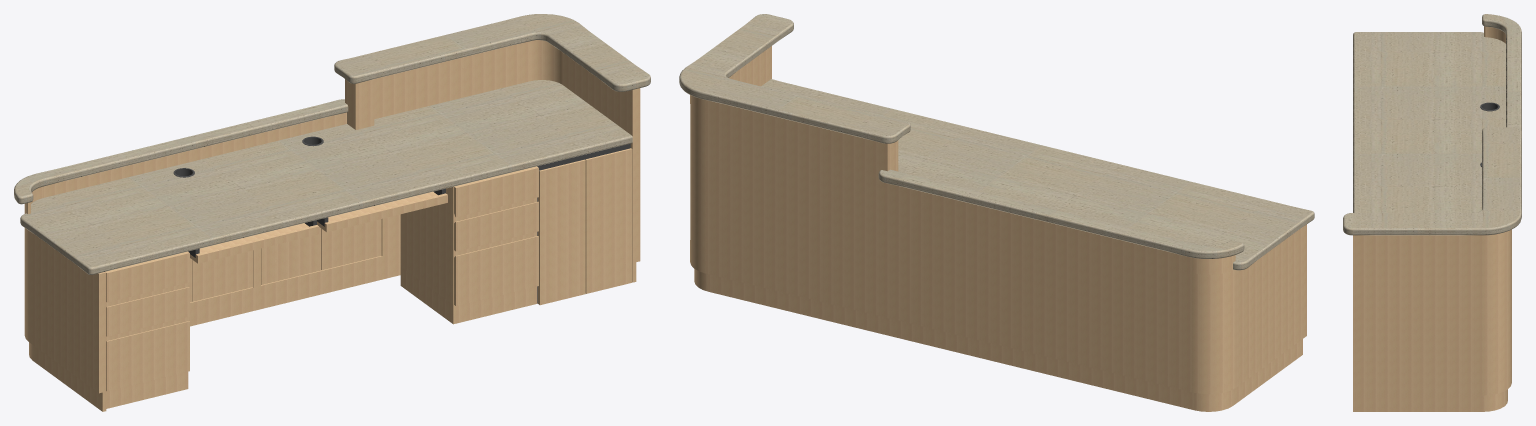
The model's file is SNCTR-09B.FBX.
3 renders of one model, left to right at view 1: azimuth 30°, elevation 25°; view 2: azimuth 150°, elevation 25°; view 3: azimuth 270°, elevation 25°, orthographic. The views are drawn at different scales.
Parts seen in each view (by area): view 1: Casework-Sunray_NCTR-11A_Countertop Casework-Sunray_NCTR-11A, Joined Solid Geometry [4136062], CSW-Sunray_pedestal pedestal_530mm [4136371], CSW_Sunray_Cab-Dbl-Dr_instance_FingerGroove CSW_Sunray_Cab-D, CSW-Sunray_pedestal pedestal_530mm [4136370], CSW_Sunray_Cabinet_Magnetic-Door_Dbl CSW_Sunray_Cabinet_Door (×2), Joined Solid Geometry [4136134], Casework-Sunray_Keyboard Casework-Sunray_Keyboard [4136414], Casework-Sunray_Keyboard Casework-Sunray_Keyboard [4136396]; view 2: Joined Solid Geometry [4136062], Casework-Sunray_NCTR-11A_Countertop Casework-Sunray_NCTR-11A; view 3: Casework-Sunray_NCTR-11A_Countertop Casework-Sunray_NCTR-11A, Joined Solid Geometry [4136062].
Part boxes in pixels (x1,y1,x2,y2): Casework-Sunray_NCTR-11A_Countertop Casework-Sunray_NCTR-11A: (14,14,650,274); Joined Solid Geometry [4136062]: (24,40,640,411); CSW-Sunray_pedestal pedestal_530mm [4136371]: (400,166,538,324); CSW_Sunray_Cab-Dbl-Dr_instance_FingerGroove CSW_Sunray_Cab-D: (537,144,632,305); CSW-Sunray_pedestal pedestal_530mm [4136370]: (106,251,189,408); CSW_Sunray_Cabinet_Magnetic-Door_Dbl CSW_Sunray_Cabinet_Door (×2): (188,219,381,302); Joined Solid Geometry [4136134]: (188,214,400,326); Casework-Sunray_Keyboard Casework-Sunray_Keyboard [4136414]: (317,188,447,232); Casework-Sunray_Keyboard Casework-Sunray_Keyboard [4136396]: (188,220,319,263); Joined Solid Geometry [4136062]: (690,46,1306,411); Casework-Sunray_NCTR-11A_Countertop Casework-Sunray_NCTR-11A: (679,14,1314,270); Casework-Sunray_NCTR-11A_Countertop Casework-Sunray_NCTR-11A: (1343,14,1521,235); Joined Solid Geometry [4136062]: (1353,26,1511,411).
Size of the model in its own units: 118 by 41.34 by 35.43.
4 materials, 3 textured.
